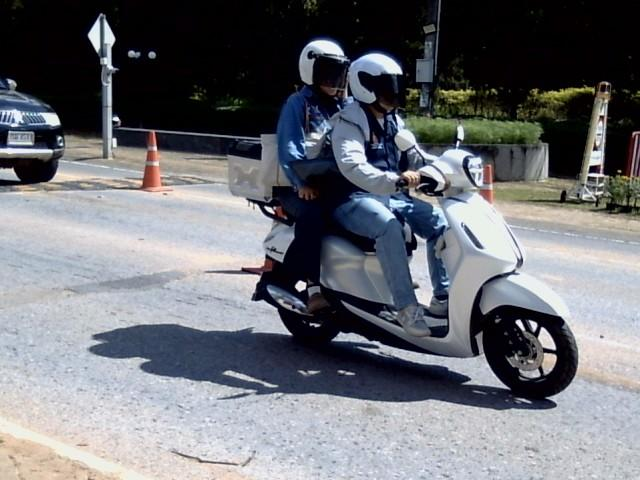helmet: (349, 52, 404, 111), (296, 37, 347, 95)
motor: (247, 133, 577, 397)
person: (328, 53, 448, 335), (277, 39, 352, 313)
